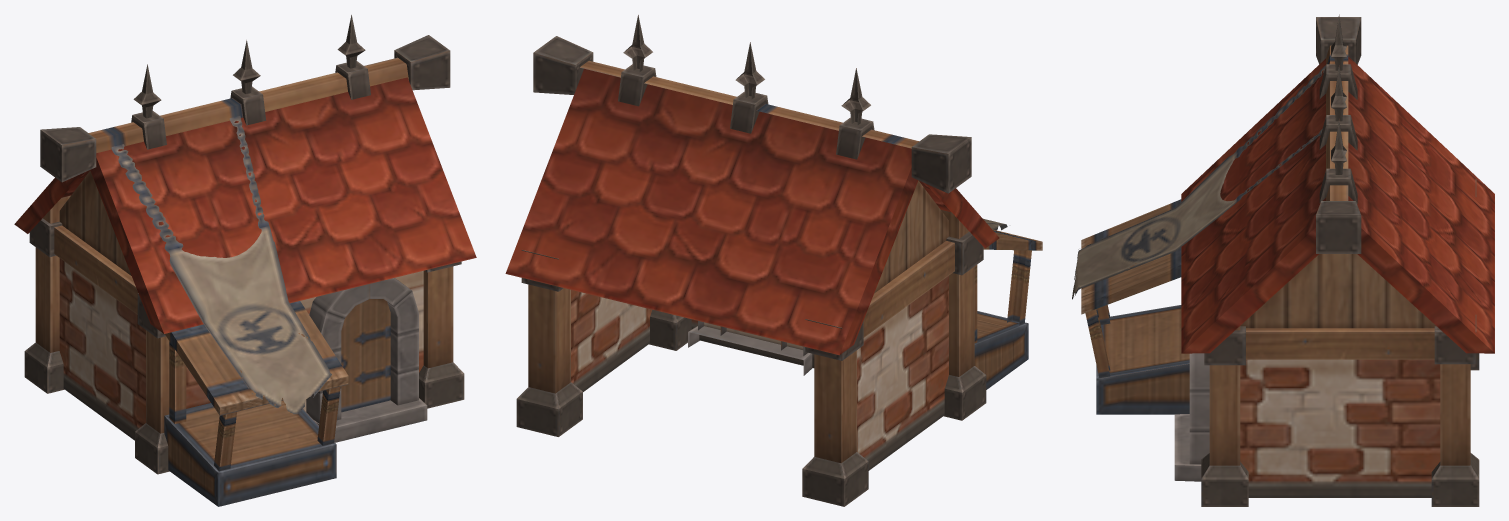
The model's file is paran_house_smith.FBX.
3 renders of one model, left to right at view 1: azimuth 30°, elevation 25°; view 2: azimuth 150°, elevation 25°; view 3: azimuth 270°, elevation 25°, orthographic. The views are drawn at different scales.
Visible parts, largest first — view 1: Object118; view 2: Object118; view 3: Object118.
Part boxes in pixels (x1,y1,x2,y2): Object118: (14, 15, 476, 506); Object118: (505, 15, 1042, 506); Object118: (1072, 14, 1494, 506).
Bounding box in the file's own units: 162 × 139 × 146.
